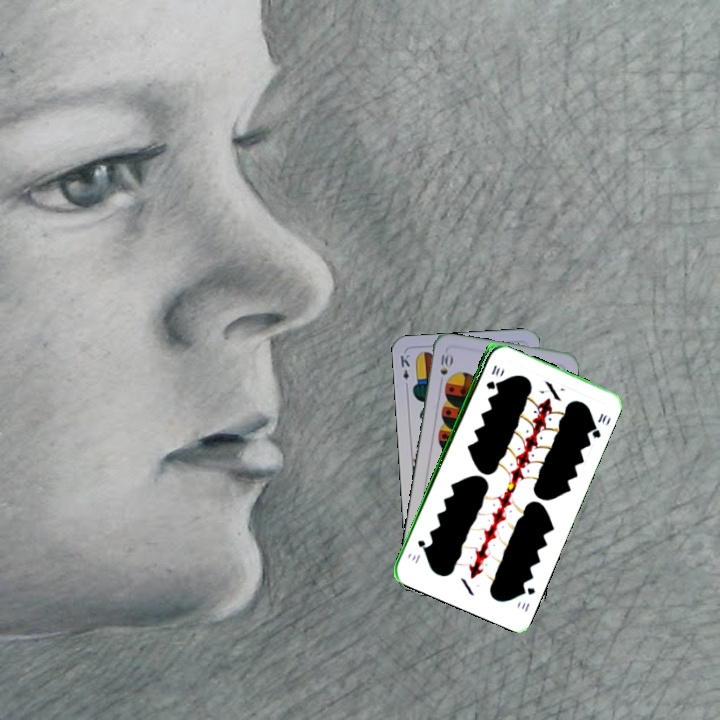EK: (396, 350, 412, 391)
G10: (516, 581, 538, 614), (482, 361, 503, 392)
S10: (436, 348, 454, 377)
